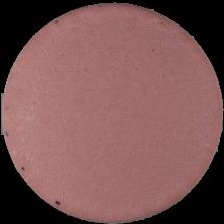59762-6690: (0, 0, 224, 224)
